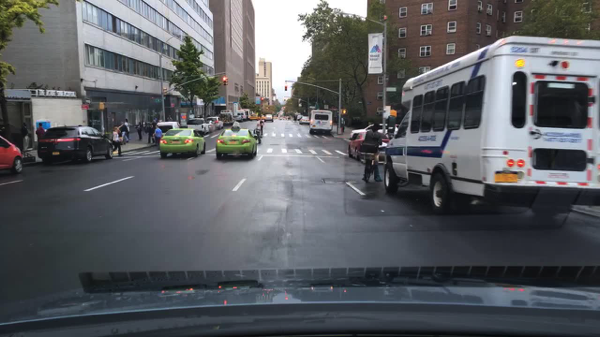car: (36, 125, 117, 165), (157, 119, 207, 159), (214, 120, 258, 161), (346, 129, 391, 162), (0, 134, 26, 177), (348, 123, 401, 142), (187, 117, 212, 136), (154, 121, 180, 137), (207, 116, 226, 130), (205, 118, 218, 133), (230, 115, 244, 123), (299, 116, 310, 125), (263, 114, 274, 123), (250, 114, 263, 120), (294, 114, 303, 121), (260, 115, 265, 121)
person: (359, 123, 389, 184), (18, 122, 32, 152), (111, 125, 124, 157), (118, 121, 130, 144), (153, 124, 163, 149), (34, 121, 46, 139), (123, 117, 132, 140), (146, 122, 153, 146), (136, 120, 143, 142), (338, 117, 345, 134)
traffic light: (388, 111, 396, 117), (222, 76, 226, 86), (341, 109, 347, 114), (261, 97, 264, 103), (284, 86, 287, 90)
traffic sign: (81, 104, 89, 109), (85, 98, 93, 103), (386, 88, 398, 91), (155, 98, 162, 103), (385, 76, 390, 81)
truck: (378, 34, 599, 220), (307, 109, 333, 135), (218, 109, 238, 127), (235, 110, 248, 121), (240, 109, 251, 119)
